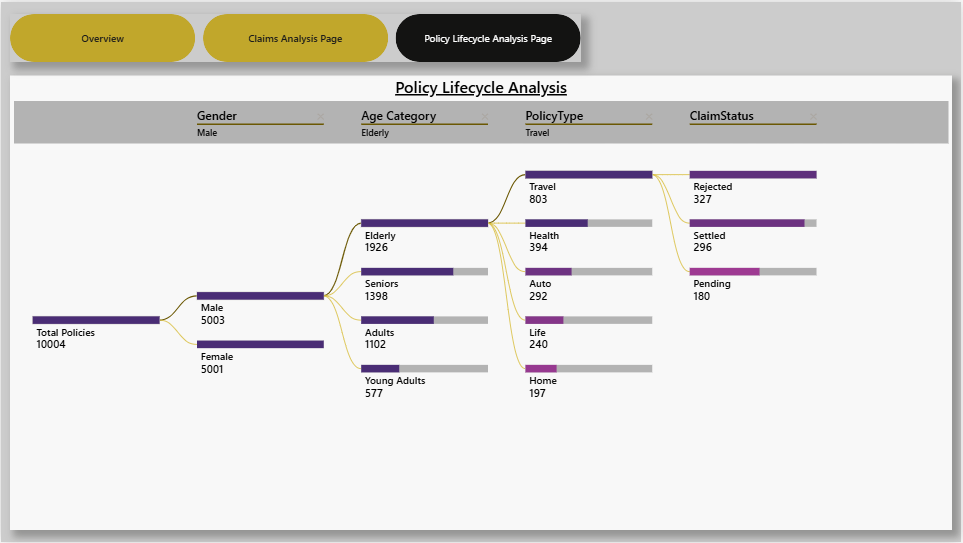

The dashboard page shown, as its layout file describes it:
{"tool":"powerbi","page":{"name":"Policy Lifecycle Analysis Page","canvas":[1280,720],"ordinal":2},"visuals":[{"type":"decompositionTreeVisual","title":"Policy Lifecycle Analysis","fields":{"Analyze":["CountNonNull(InsuranceData.PolicyNumber)"],"ExplainBy":["InsuranceData.Gender","InsuranceData.Age Category","InsuranceData.PolicyType","InsuranceData.ClaimStatus"]},"box":[12,98,1256,606],"z":0},{"type":"pageNavigator","box":[12,16,762,64],"z":1}]}

Visuals, with their boxes on the page's 1280x720 design canvas (x1, y1, x2, y2). These are canvas units, not pixel positions in the 963x543 screenshot, which may show the page scaled, cropped or inside an application window:
"Policy Lifecycle Analysis" decompositionTreeVisual: [x1=12, y1=98, x2=1268, y2=704]
pageNavigator: [x1=12, y1=16, x2=774, y2=80]
